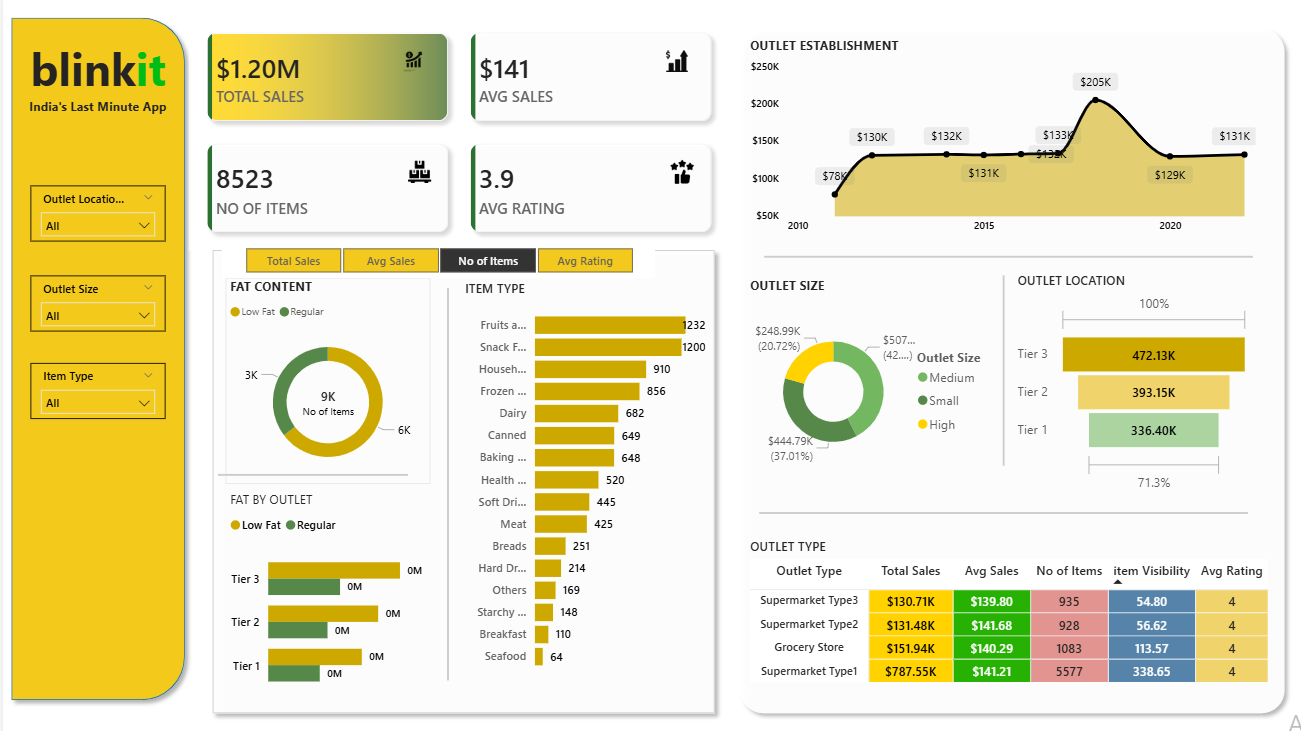

What the dashboard file says about the page in this screenshot:
{"tool":"powerbi","page":{"name":"Page 1","canvas":[1400,800],"ordinal":0},"visuals":[{"type":"shape","box":[0,18,204,750],"z":0},{"type":"textbox","box":[9.5,42.3,185.4,81.8],"z":1000},{"type":"textbox","box":[252.2,703.5,364,64.1],"z":2000},{"type":"textbox","box":[21.8,107.7,160.9,31.4],"z":3000},{"type":"cardVisual","fields":{"Data":["BlinkIT Grocery Data.Total Sales","BlinkIT Grocery Data.Avg Sales","BlinkIT Grocery Data.No of Items","BlinkIT Grocery Data.Avg Rating"]},"box":[195,17.7,590.3,265.9],"z":4000},{"type":"shape","box":[215.8,266.8,556.3,514.7],"z":5000},{"type":"donutChart","title":"FAT CONTENT","fields":{"Y":["BlinkIT Grocery Data.No of Items"],"Category":["BlinkIT Grocery Data.Item Fat Content"]},"box":[238.6,305.6,219.8,221.2],"z":6000},{"type":"slicer","fields":{"Values":["Metrics.Metrics"]},"box":[234.6,266.8,465.1,38.9],"z":7000},{"type":"cardVisual","fields":{"Data":["BlinkIT Grocery Data.No of Items"]},"box":[286.9,399.5,124.7,79.1],"z":8000},{"type":"clusteredBarChart","title":"FAT BY OUTLET","fields":{"Y":["BlinkIT Grocery Data.No of Items"],"Category":["BlinkIT Grocery Data.Outlet Location Type"],"Series":["BlinkIT Grocery Data.Item Fat Content"]},"box":[238.6,533.5,219.8,230.6],"z":9000},{"type":"shape","box":[461.1,316.4,32.2,420.9],"z":10000},{"type":"shape","box":[230.6,506.7,203.8,20.1],"z":11000},{"type":"barChart","title":"ITEM TYPE","fields":{"Y":["BlinkIT Grocery Data.No of Items"],"Category":["BlinkIT Grocery Data.Item Type"]},"box":[490.6,307,268.1,429],"z":12000},{"type":"shape","box":[781.5,29.5,601.9,752],"z":13000},{"type":"lineChart","title":"OUTLET ESTABLISHMENT","fields":{"Y":["BlinkIT Grocery Data.Total Sales"],"Category":["BlinkIT Grocery Data.Outlet Establishment Year"]},"box":[796.3,46.9,552.3,219.8],"z":14000},{"type":"donutChart","title":"OUTLET SIZE","fields":{"Category":["BlinkIT Grocery Data.Outlet Size"],"Y":["BlinkIT Grocery Data.Total Sales"]},"box":[796.3,304.3,274.8,229.2],"z":15000},{"type":"shape","box":[816.4,276.1,524.1,13.4],"z":16000},{"type":"shape","box":[1063,303,20.1,203.8],"z":17000},{"type":"funnel","title":"OUTLET LOCATION","fields":{"Category":["BlinkIT Grocery Data.Outlet Location Type"],"Y":["Sum(BlinkIT Grocery Data.Sales)"]},"box":[1083.1,298.9,258.7,241.3],"z":18000},{"type":"shape","box":[811,550.9,524.1,13.4],"z":19000},{"type":"pivotTable","title":"OUTLET TYPE","fields":{"Values":["BlinkIT Grocery Data.Total Sales","BlinkIT Grocery Data.Avg Sales","BlinkIT Grocery Data.No of Items","Sum(BlinkIT Grocery Data.Item Visibility)","BlinkIT Grocery Data.Avg Rating"],"Rows":["BlinkIT Grocery Data.Outlet Type"]},"box":[796.3,584.5,565.7,179.6],"z":20000},{"type":"slicer","fields":{"Values":["BlinkIT Grocery Data.Outlet Size"]},"box":[29.5,303,144.8,60.3],"z":21000},{"type":"slicer","fields":{"Values":["BlinkIT Grocery Data.Outlet Location Type"]},"box":[29.5,206.4,144.8,60.3],"z":21001},{"type":"slicer","fields":{"Values":["BlinkIT Grocery Data.Item Type"]},"box":[29.5,396.8,144.8,60.3],"z":21002}]}

Visuals, with their boxes in screenshot pixels (x1, y1, x2, y2), scaled from the page's 1400x800 canvas onto the 1301x731 screenshot:
shape: (x1=0, y1=16, x2=190, y2=702)
textbox: (x1=9, y1=39, x2=181, y2=113)
textbox: (x1=234, y1=643, x2=573, y2=701)
textbox: (x1=20, y1=98, x2=170, y2=127)
cardVisual - BlinkIT Grocery Data.Total Sales x BlinkIT Grocery Data.Avg Sales: (x1=181, y1=16, x2=730, y2=259)
shape: (x1=201, y1=244, x2=718, y2=714)
"FAT CONTENT" donutChart: (x1=222, y1=279, x2=426, y2=481)
slicer - Metrics.Metrics: (x1=218, y1=244, x2=650, y2=279)
cardVisual - BlinkIT Grocery Data.No of Items: (x1=267, y1=365, x2=382, y2=437)
"FAT BY OUTLET" clusteredBarChart: (x1=222, y1=487, x2=426, y2=698)
shape: (x1=428, y1=289, x2=458, y2=674)
shape: (x1=214, y1=463, x2=404, y2=481)
"ITEM TYPE" barChart: (x1=456, y1=281, x2=705, y2=673)
shape: (x1=726, y1=27, x2=1286, y2=714)
"OUTLET ESTABLISHMENT" lineChart: (x1=740, y1=43, x2=1253, y2=244)
"OUTLET SIZE" donutChart: (x1=740, y1=278, x2=995, y2=487)
shape: (x1=759, y1=252, x2=1246, y2=265)
shape: (x1=988, y1=277, x2=1007, y2=463)
"OUTLET LOCATION" funnel: (x1=1007, y1=273, x2=1247, y2=494)
shape: (x1=754, y1=503, x2=1241, y2=516)
"OUTLET TYPE" pivotTable: (x1=740, y1=534, x2=1266, y2=698)
slicer - BlinkIT Grocery Data.Outlet Size: (x1=27, y1=277, x2=162, y2=332)
slicer - BlinkIT Grocery Data.Outlet Location Type: (x1=27, y1=189, x2=162, y2=244)
slicer - BlinkIT Grocery Data.Item Type: (x1=27, y1=363, x2=162, y2=418)
